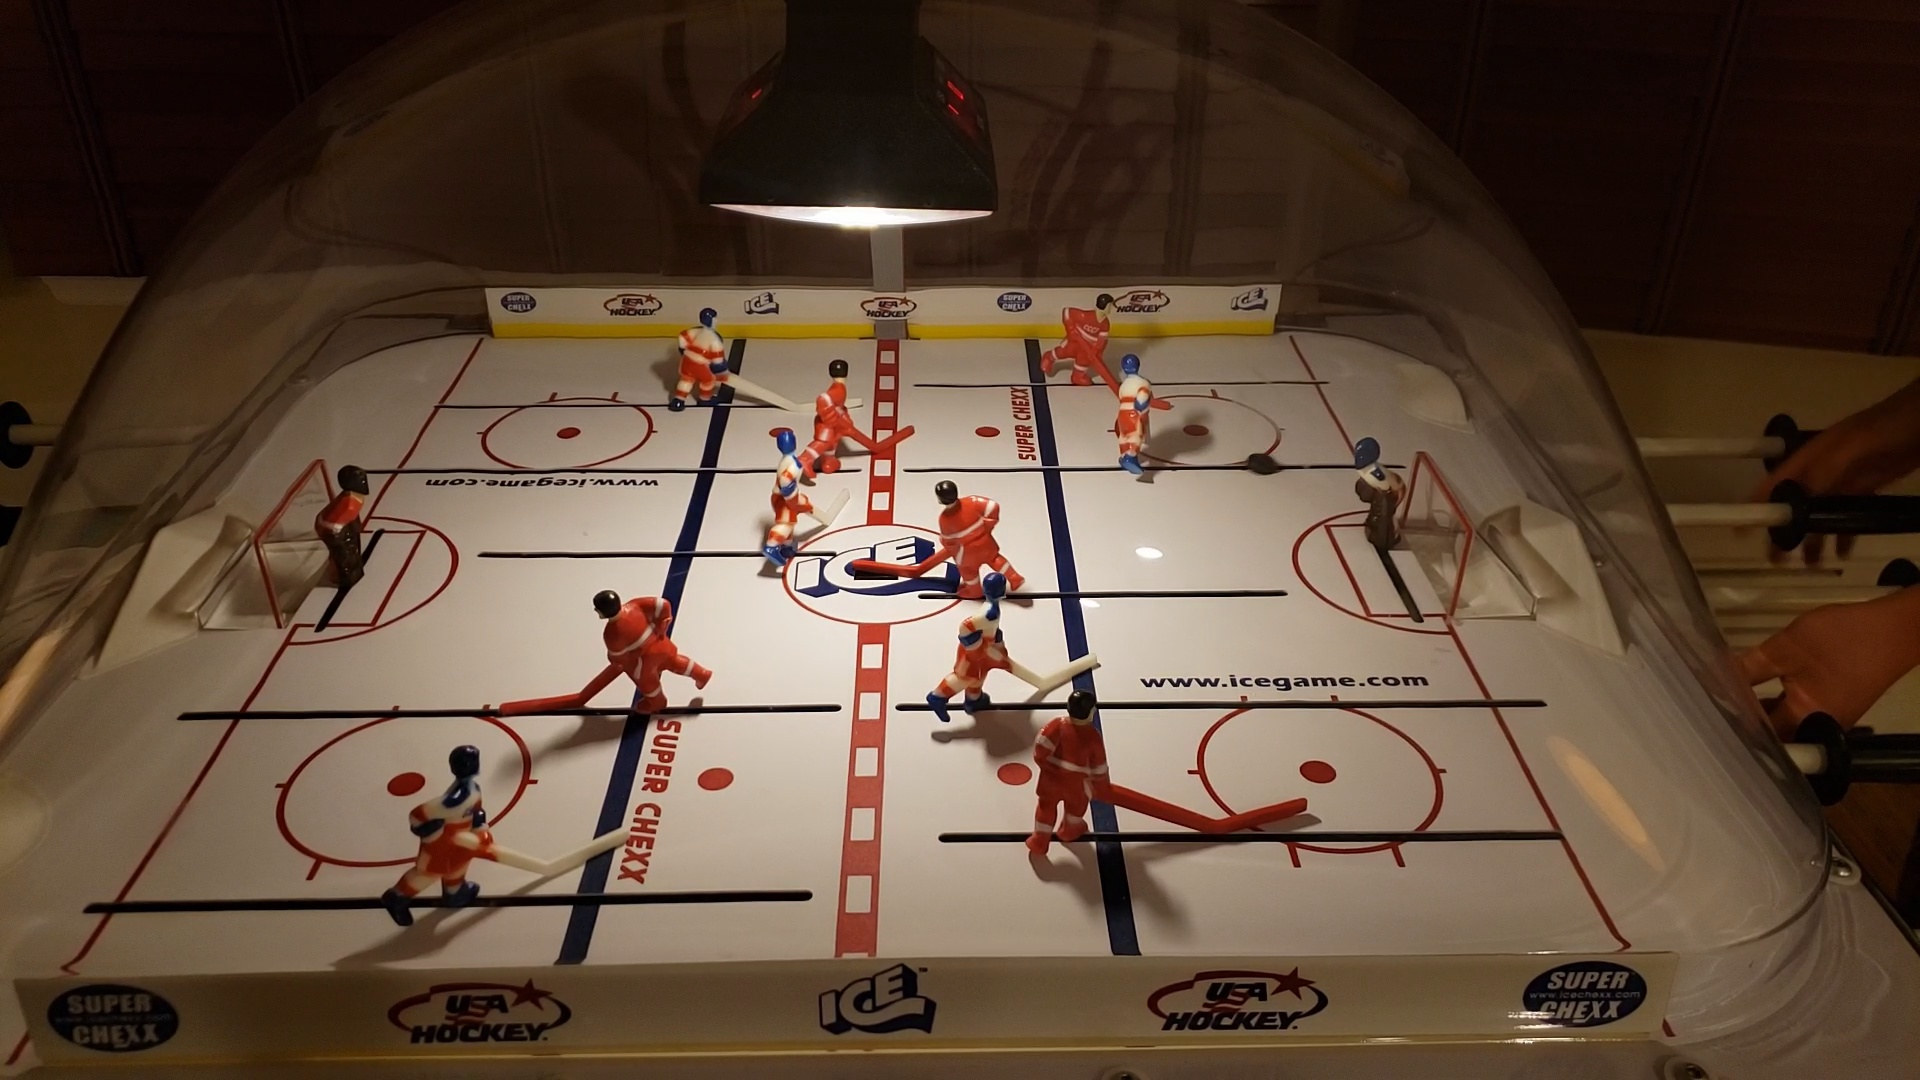puck: (1247, 451, 1279, 473)
